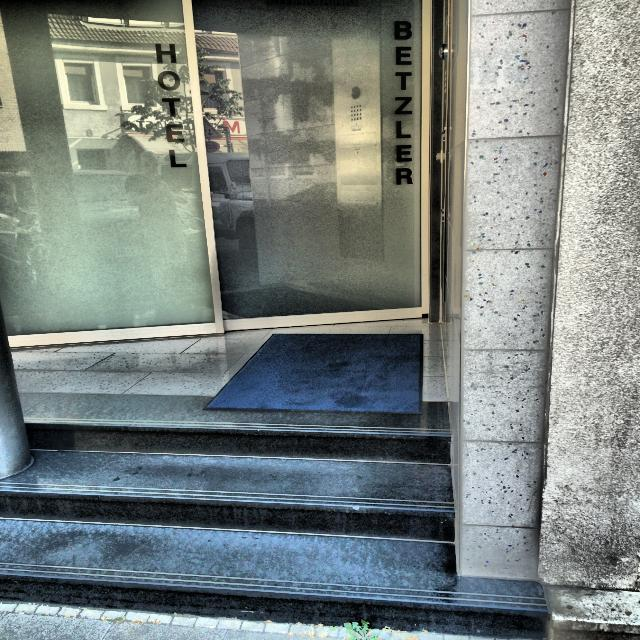escada: (0, 419, 546, 637)
